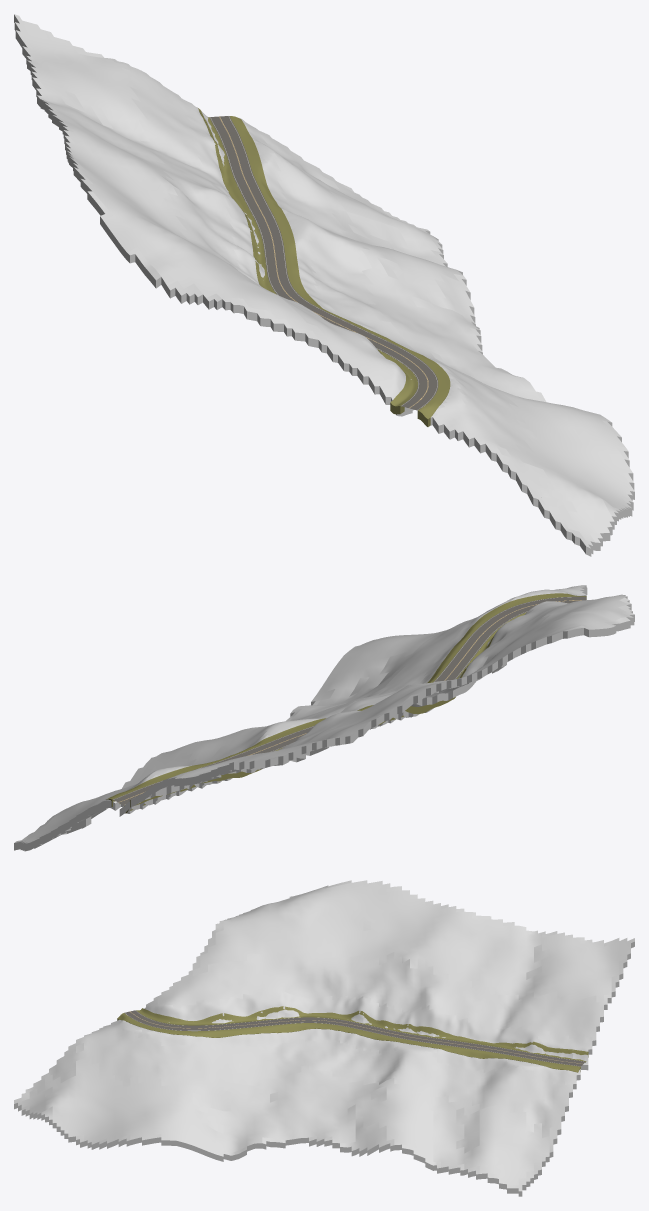
The model's file is conz_170.glb.
3 renders of one model, top to bottom at view 1: azimuth 30°, elevation 25°; view 2: azimuth 150°, elevation 25°; view 3: azimuth 270°, elevation 25°, orthographic. The views are drawn at different scales.
Parts seen in each view (by area): view 1: terrain170, road170, verge170L, verge170R; view 2: terrain170, road170, verge170L, verge170R; view 3: terrain170, verge170R, road170, verge170L.
Part boxes in pixels (x1,y1,x2,y2): terrain170: (14, 14, 634, 556); road170: (209, 116, 438, 410); verge170L: (230, 116, 450, 426); verge170R: (198, 108, 417, 414); terrain170: (14, 585, 634, 851); road170: (113, 596, 586, 805); verge170L: (106, 593, 586, 806); verge170R: (124, 612, 526, 813); terrain170: (14, 880, 634, 1196); verge170R: (136, 1006, 588, 1062); road170: (124, 1010, 584, 1066); verge170L: (117, 1013, 580, 1072).
Bounding box in the file's own units: 184 × 96.65 × 320.
